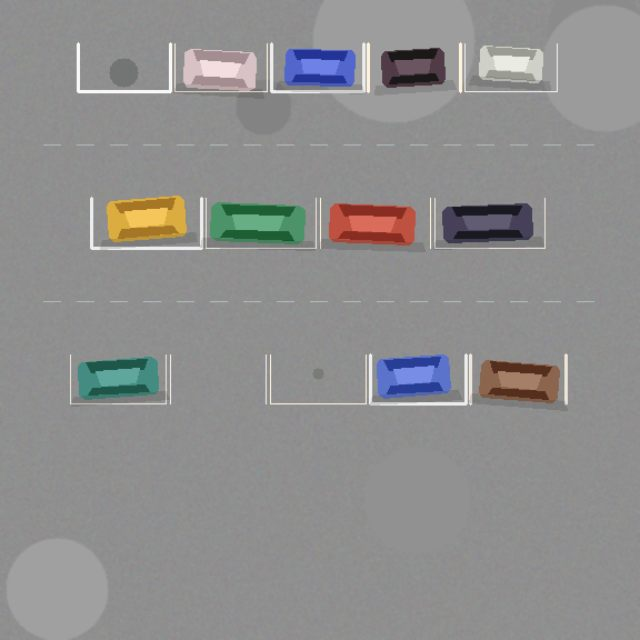space-empty: (170, 354, 266, 403), (270, 354, 366, 403), (78, 43, 170, 91)
space-occupied: (91, 198, 201, 248), (206, 198, 316, 248), (320, 198, 430, 248), (434, 198, 544, 248), (70, 354, 166, 403), (370, 354, 466, 403), (470, 354, 566, 403), (174, 43, 267, 91), (464, 43, 557, 91), (271, 43, 363, 91), (368, 43, 460, 91)
